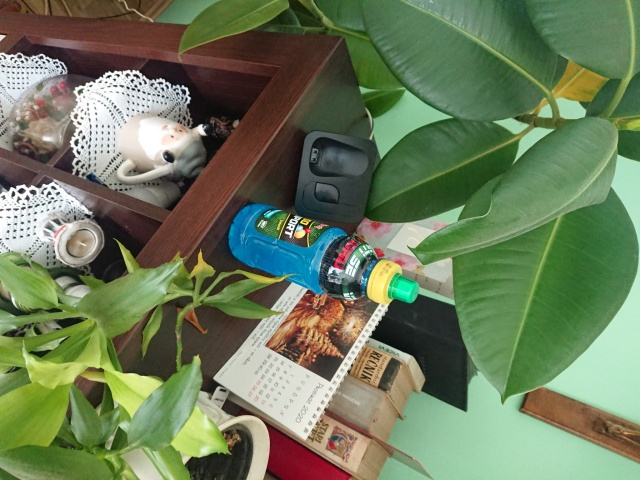Vindi Iso Sport Forest Strawberries 500mL: (225, 200, 422, 307)
